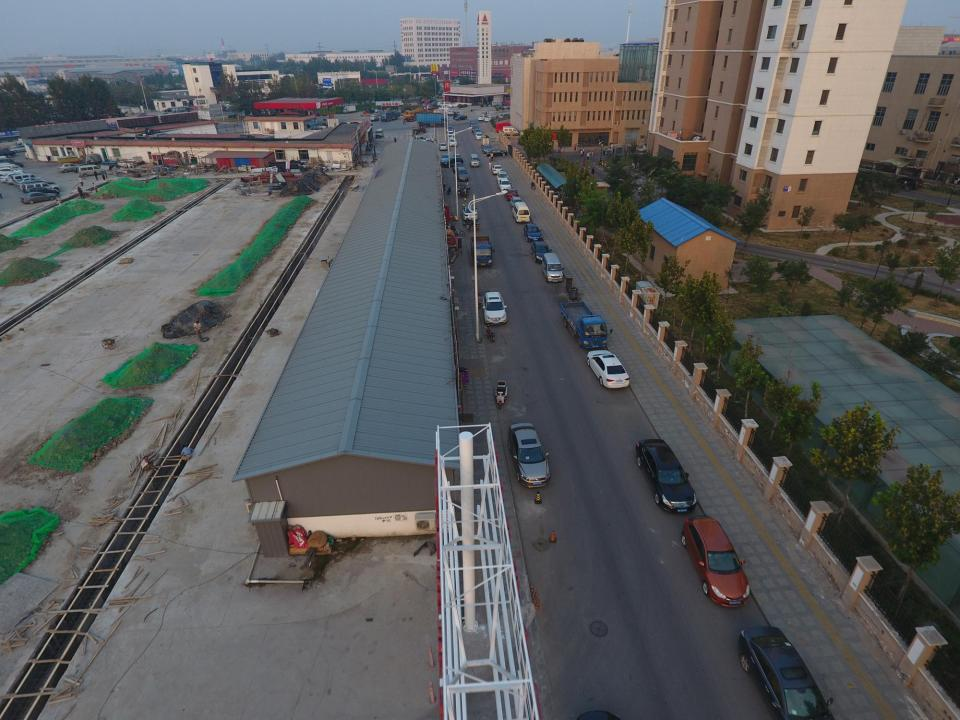car: (738, 626, 835, 720), (681, 516, 750, 607), (636, 438, 696, 512), (508, 423, 550, 487), (586, 350, 629, 388), (482, 292, 507, 325), (20, 191, 56, 204), (530, 241, 552, 262), (22, 181, 60, 192), (25, 186, 60, 197), (523, 223, 542, 242), (22, 180, 56, 190), (17, 178, 46, 189), (440, 156, 464, 168), (16, 176, 42, 187), (6, 174, 32, 185), (0, 173, 29, 182), (0, 167, 24, 177), (57, 163, 81, 173), (462, 205, 478, 220), (9, 145, 34, 154), (0, 159, 24, 168), (504, 188, 519, 201), (497, 179, 512, 192), (73, 164, 97, 172), (452, 162, 466, 174), (487, 149, 507, 157), (510, 197, 523, 208), (308, 123, 328, 130), (0, 149, 15, 158), (496, 171, 508, 182), (491, 165, 503, 175), (482, 144, 492, 154), (158, 112, 174, 118), (416, 136, 432, 142), (176, 106, 192, 111), (454, 114, 467, 120), (369, 115, 380, 122), (163, 107, 178, 112), (453, 154, 462, 162), (478, 115, 490, 121), (448, 102, 460, 108), (440, 101, 452, 107), (485, 116, 496, 122), (438, 142, 446, 150), (134, 114, 150, 118), (441, 154, 449, 162), (450, 138, 458, 146), (475, 133, 484, 140), (471, 126, 480, 133), (502, 101, 514, 106), (420, 98, 432, 103), (473, 129, 482, 135), (431, 100, 440, 106), (423, 105, 436, 109), (447, 110, 457, 115), (426, 99, 436, 104), (470, 122, 478, 128), (447, 135, 455, 141), (446, 126, 454, 132), (434, 102, 446, 106), (366, 108, 375, 113), (428, 106, 439, 110), (447, 131, 454, 137), (314, 111, 321, 116), (439, 106, 446, 111)
truck: (560, 302, 612, 348), (470, 236, 494, 266), (417, 113, 448, 127), (379, 112, 401, 122), (342, 105, 356, 114), (434, 109, 448, 118), (481, 136, 490, 148)
van: (542, 253, 564, 282), (510, 202, 530, 223), (11, 173, 41, 186), (77, 165, 106, 177), (0, 164, 24, 174), (456, 166, 468, 182), (502, 126, 518, 135), (503, 128, 519, 136), (470, 154, 479, 167), (171, 106, 186, 113), (376, 128, 384, 138), (499, 113, 509, 119), (492, 101, 502, 107)
